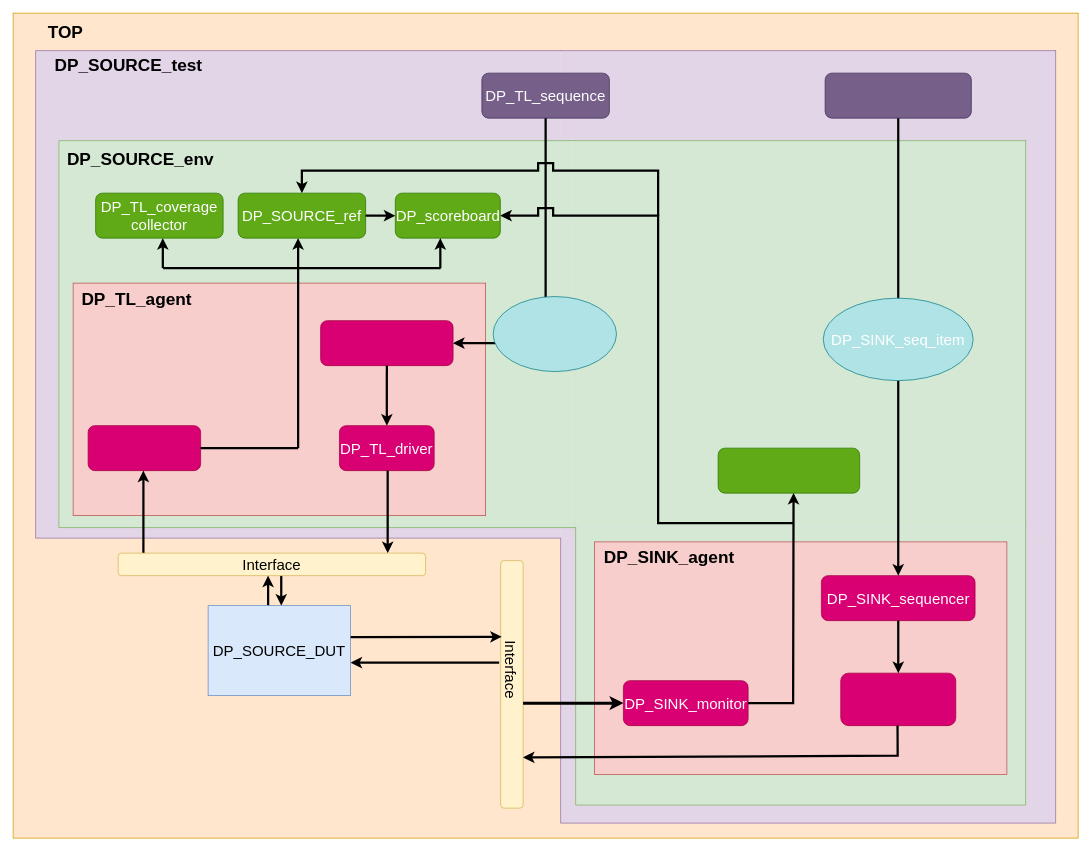
This 1091x851 diagram has some shape labels left out. Here are the shapes that lost their labels. From the top down, the centre of each, then its label:
At pixel 897 95: "DP_SINK_sequence".
At pixel 386 343: "DP_TL_sequencer".
At pixel 554 334: "DP_TL_seq_item".
At pixel 144 448: "DP_TL_monitor".
At pixel 788 470: "DP_SINK_coverage collector".
At pixel 898 699: "DP_SINK_driver".
